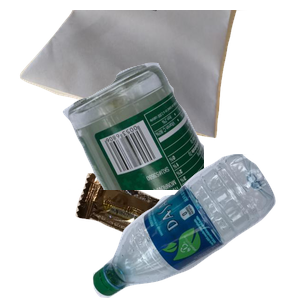glass: (60, 60, 300, 240)
paper: (17, 10, 254, 141)
plastic: (90, 154, 300, 300)
trash: (73, 171, 242, 300)
